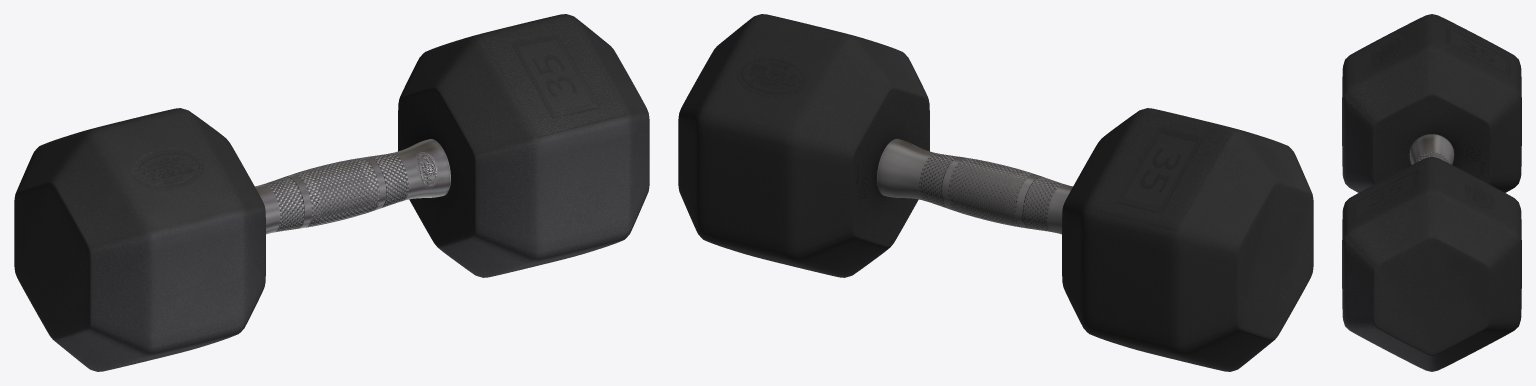
The model's file is mancuerna3.obj.
3 views of the same model, side by side, from view 1: azimuth 30°, elevation 25°; view 2: azimuth 150°, elevation 25°; view 3: azimuth 270°, elevation 25° (orthographic). The views are drawn at different scales.
Parts seen in each view (by area): view 1: _Dumbells_v1_L3:_Dumbells_v1; view 2: _Dumbells_v1_L3:_Dumbells_v1; view 3: _Dumbells_v1_L3:_Dumbells_v1.
Boxes of the visible parts, left/top/right/bottom form: _Dumbells_v1_L3:_Dumbells_v1: left=14, top=14, right=649, bottom=371; _Dumbells_v1_L3:_Dumbells_v1: left=678, top=14, right=1313, bottom=371; _Dumbells_v1_L3:_Dumbells_v1: left=1342, top=14, right=1521, bottom=371.
Size of the model in its own units: 3.33 by 1.37 by 1.22.
Materials: 1 (1 with a texture image).
